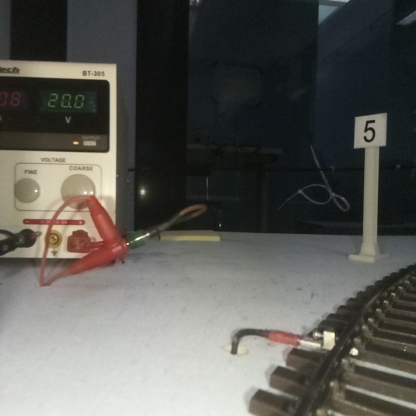white-info-5: (355, 113, 386, 261)
